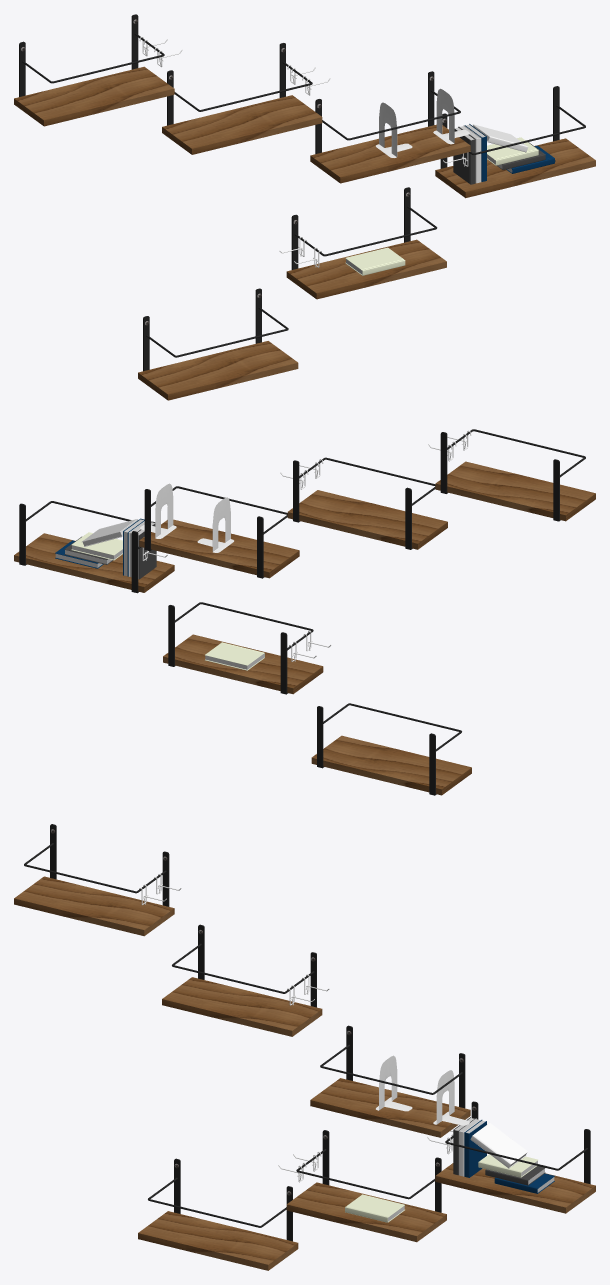
Rendered from stage1_3.fbx.
3 views of the same model, one above another, from view 1: azimuth 30°, elevation 25°; view 2: azimuth 150°, elevation 25°; view 3: azimuth 330°, elevation 25° (orthographic).
Parts seen in each view (by area): view 1: stage1_3; view 2: stage1_3; view 3: stage1_3.
Part boxes in pixels (x1,y1,x2,y2): stage1_3: (14, 14, 595, 400); stage1_3: (14, 429, 595, 795); stage1_3: (14, 824, 595, 1270).
Size of the model in its own units: 1905 by 1204 by 185.
